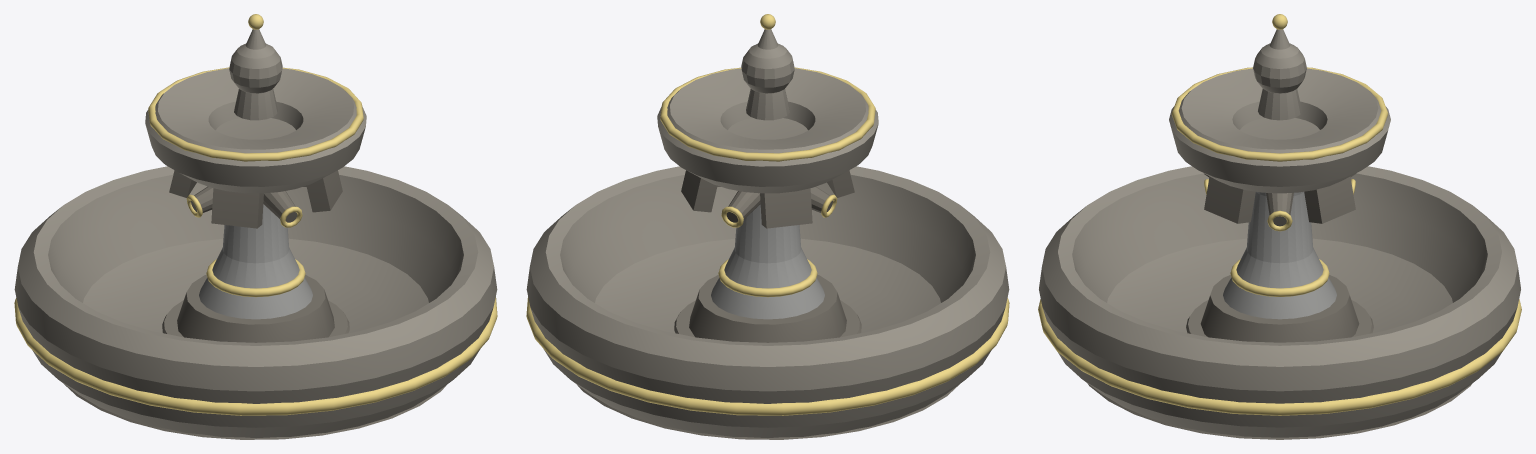
File: fountain.glb
3 renders of one model, left to right at view 1: azimuth 30°, elevation 25°; view 2: azimuth 150°, elevation 25°; view 3: azimuth 270°, elevation 25°, orthographic.
Parts seen in each view (by area): view 1: fountain, fountain-gold; view 2: fountain, fountain-gold; view 3: fountain, fountain-gold.
Boxes of the visible parts, box(x1,y1,x2,y2) form: fountain: box(14, 29, 497, 439); fountain-gold: box(14, 14, 497, 415); fountain: box(526, 29, 1009, 439); fountain-gold: box(526, 14, 1009, 415); fountain: box(1039, 29, 1520, 439); fountain-gold: box(1038, 14, 1521, 415).
Bounding box in the file's own units: 3.05 × 2.35 × 3.05.
